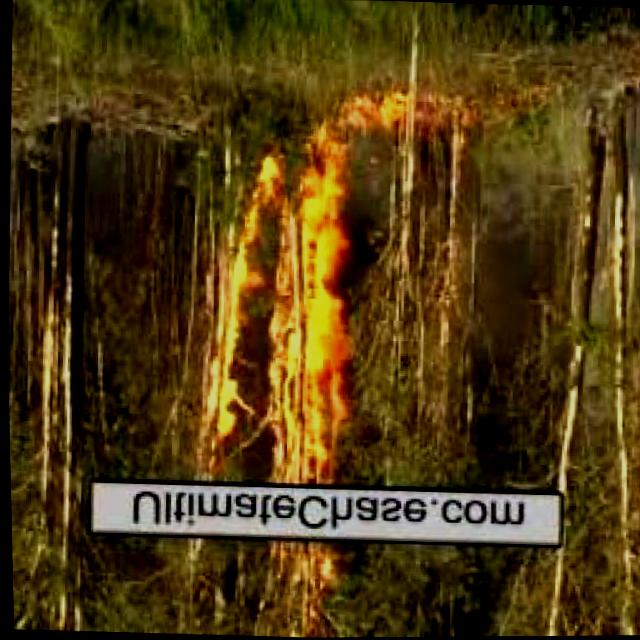helmet: (194, 132, 387, 484), (269, 540, 339, 623), (332, 82, 434, 135)
